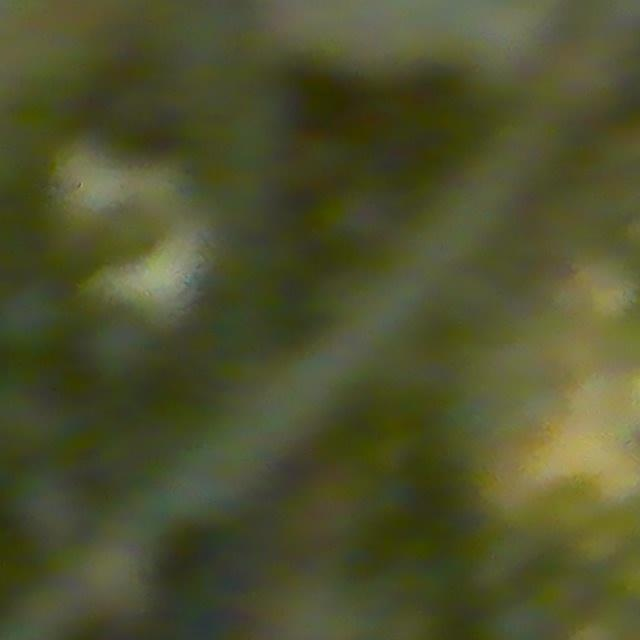SeaGrape: (0, 279, 69, 360)
